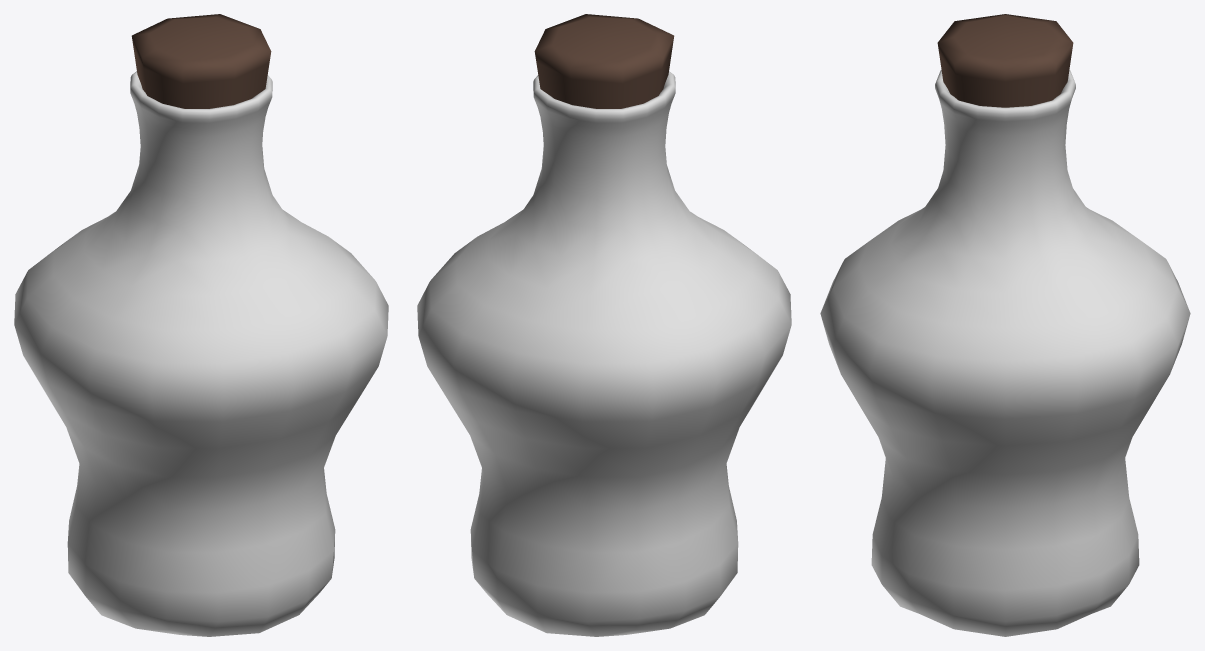
Rendered from Potion3_Filled.glb.
3 views of the same model, side by side, from view 1: azimuth 30°, elevation 25°; view 2: azimuth 150°, elevation 25°; view 3: azimuth 270°, elevation 25° (orthographic).
Visible parts, largest first — view 1: Potion3_Filled; view 2: Potion3_Filled; view 3: Potion3_Filled.
Boxes of the visible parts, left/top/right/bottom form: Potion3_Filled: left=14, top=14, right=388, bottom=636; Potion3_Filled: left=417, top=14, right=791, bottom=636; Potion3_Filled: left=820, top=14, right=1190, bottom=636.
Size of the model in its own units: 0.7187 by 1.22 by 0.7187.
